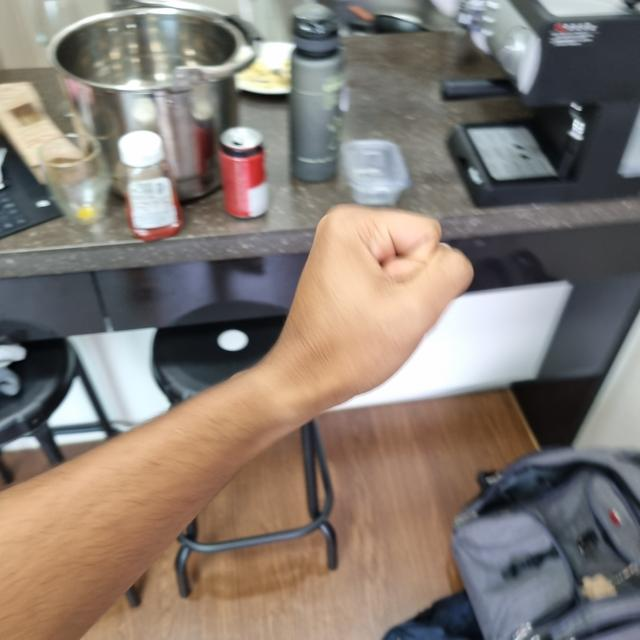Rock: (267, 205, 474, 412)
